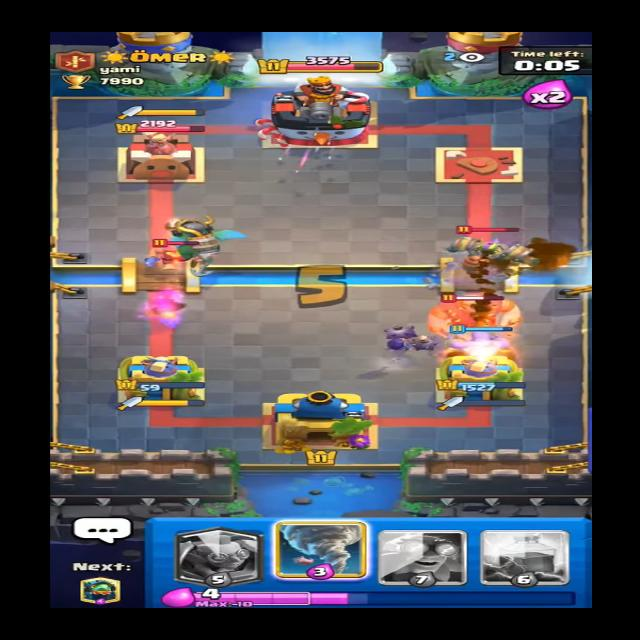arrows: (260, 118, 354, 180)
fisherman: (139, 231, 210, 274)
giant: (420, 282, 533, 332)
goblin-machine: (437, 221, 544, 272)
